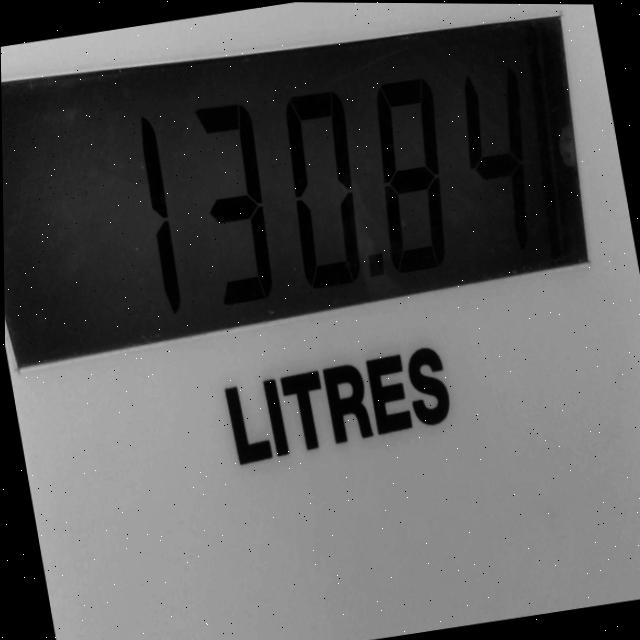.: (353, 223, 398, 298)
0: (278, 88, 368, 295)
1: (123, 109, 201, 322)
3: (193, 98, 288, 326)
4: (441, 54, 551, 262)
8: (358, 71, 468, 300)
